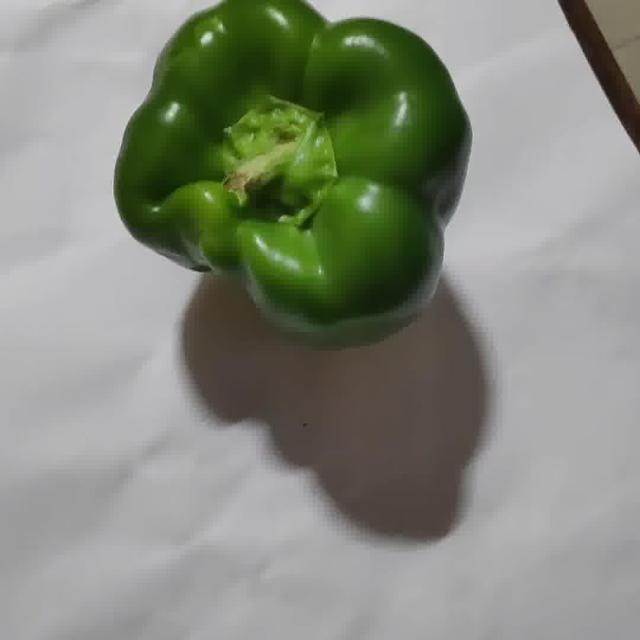Bell Pepper: (115, 0, 471, 344)
